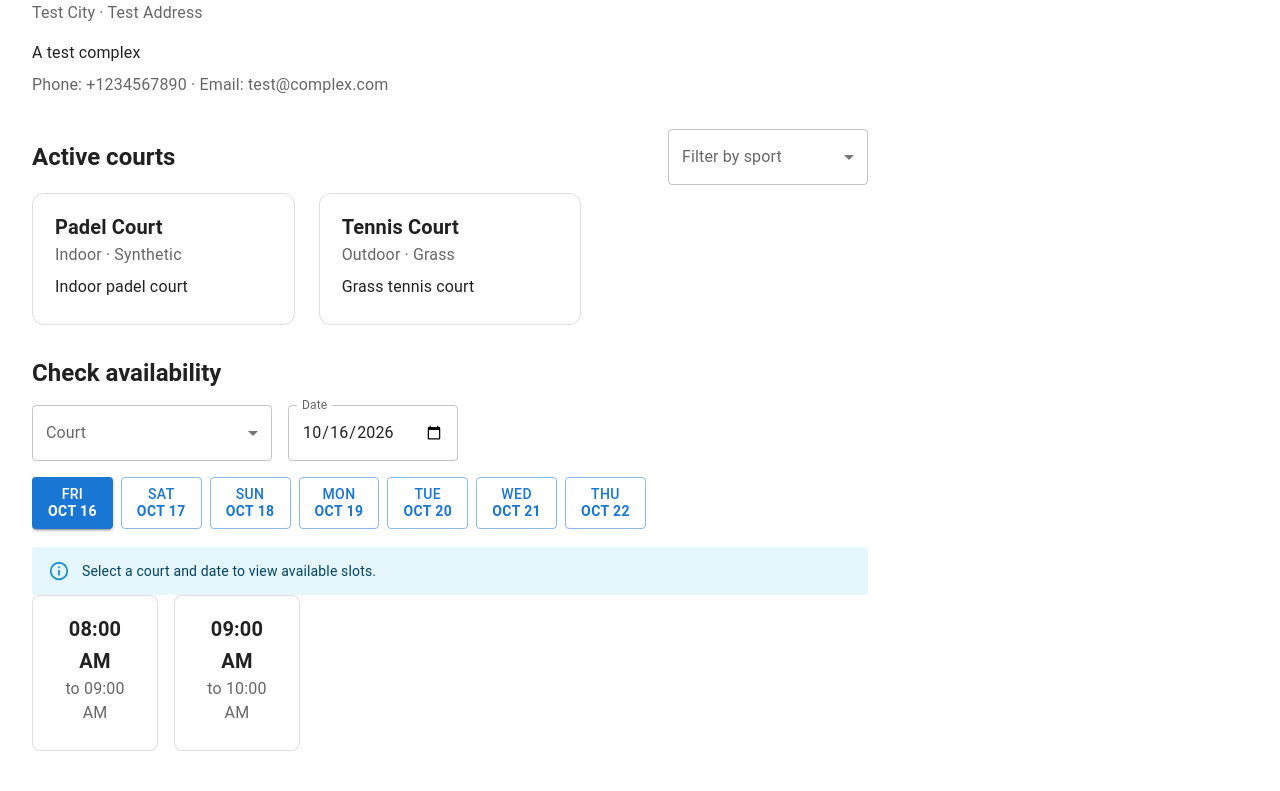
Test: ComplexDetailPage › renders a translated error in the booking dialog when the reservation fails
This screenshot has width=1280, height=791.
(page scrolled)
Click the heading "08:00 AM". click: (95, 629)
box: [69, 616, 121, 672]
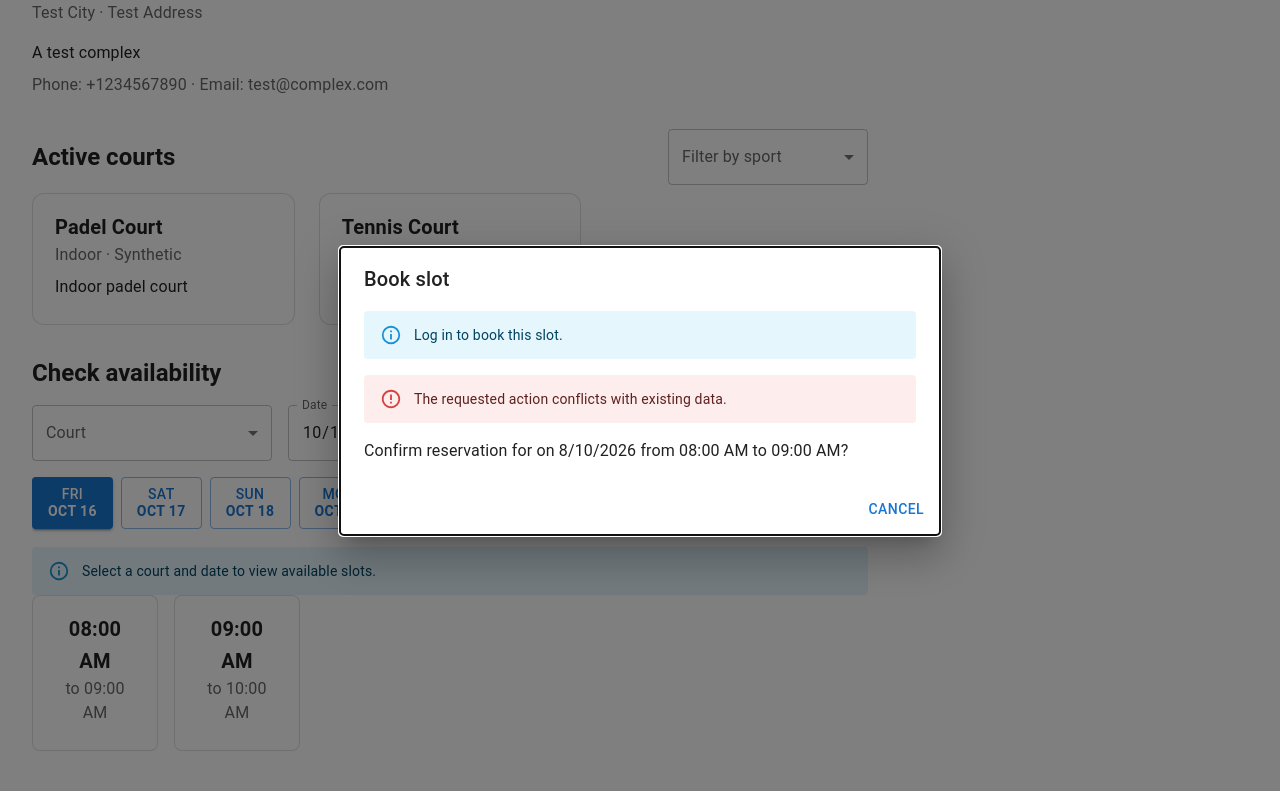
Expected: the text "The requested action conflicts with existing data." is shown, [414, 391, 727, 407]
